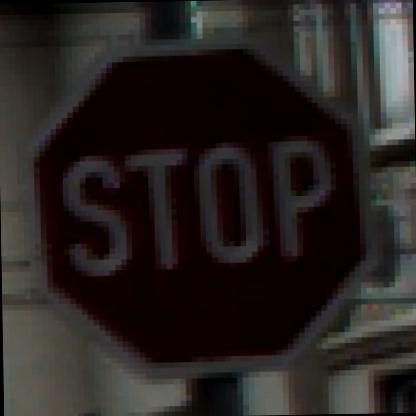stop: (26, 28, 382, 376)
